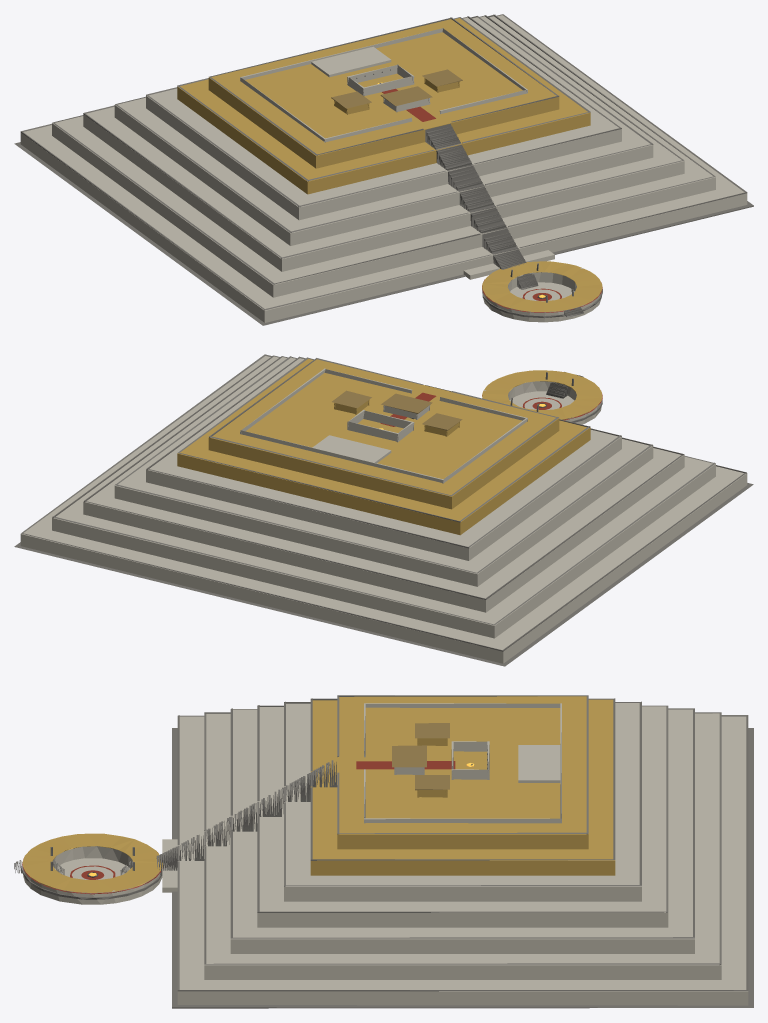
Rendered from caral_pyramid_mayor_lod1.glb.
3 renders of one model, top to bottom at view 1: azimuth 30°, elevation 25°; view 2: azimuth 150°, elevation 25°; view 3: azimuth 270°, elevation 25°, orthographic. The views are drawn at different scales.
Visible parts, largest first — view 1: GEO-Caral_PyramidMayor_LOD1_Plaster_White, GEO-Caral_PyramidMayor_LOD1_Plaster_Yellow, GEO-Caral_PyramidMayor_LOD1_Stone_Granodiorite, GEO-Caral_PyramidMayor_LOD1_Thatch_Reed, GEO-Caral_PyramidMayor_LOD1_Plaster_Red; view 2: GEO-Caral_PyramidMayor_LOD1_Plaster_White, GEO-Caral_PyramidMayor_LOD1_Plaster_Yellow, GEO-Caral_PyramidMayor_LOD1_Stone_Granodiorite, GEO-Caral_PyramidMayor_LOD1_Thatch_Reed; view 3: GEO-Caral_PyramidMayor_LOD1_Plaster_White, GEO-Caral_PyramidMayor_LOD1_Plaster_Yellow, GEO-Caral_PyramidMayor_LOD1_Stone_Granodiorite, GEO-Caral_PyramidMayor_LOD1_Thatch_Reed, GEO-Caral_PyramidMayor_LOD1_Plaster_Red.
Part boxes in pixels (x1,y1,x2,y2): GEO-Caral_PyramidMayor_LOD1_Plaster_White: (20,15,747,322); GEO-Caral_PyramidMayor_LOD1_Plaster_Yellow: (177,18,602,311); GEO-Caral_PyramidMayor_LOD1_Stone_Granodiorite: (14,14,753,325); GEO-Caral_PyramidMayor_LOD1_Thatch_Reed: (331,69,462,108); GEO-Caral_PyramidMayor_LOD1_Plaster_Red: (382,88,602,312); GEO-Caral_PyramidMayor_LOD1_Plaster_White: (20,356,747,663); GEO-Caral_PyramidMayor_LOD1_Plaster_Yellow: (177,358,602,535); GEO-Caral_PyramidMayor_LOD1_Stone_Granodiorite: (14,354,753,666); GEO-Caral_PyramidMayor_LOD1_Thatch_Reed: (332,390,462,430); GEO-Caral_PyramidMayor_LOD1_Plaster_White: (23,703,748,1005); GEO-Caral_PyramidMayor_LOD1_Plaster_Yellow: (22,696,615,892); GEO-Caral_PyramidMayor_LOD1_Stone_Granodiorite: (14,695,753,1008); GEO-Caral_PyramidMayor_LOD1_Thatch_Reed: (392,723,449,790); GEO-Caral_PyramidMayor_LOD1_Plaster_Red: (22,761,455,894).
Size of the model in its own units: 13.9 by 2.77 by 15.53.
